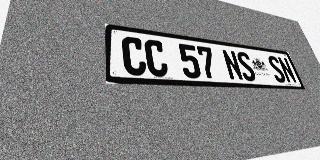5: (178, 43, 202, 79)
7: (195, 46, 219, 80)
C: (121, 36, 147, 76), (144, 39, 169, 77)
N: (221, 49, 244, 81), (277, 56, 298, 83)
S: (235, 51, 258, 81), (266, 55, 287, 83)
